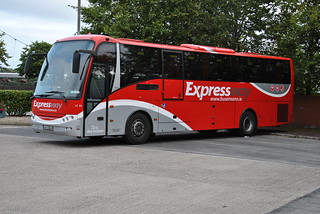bus: (31, 33, 293, 145)
